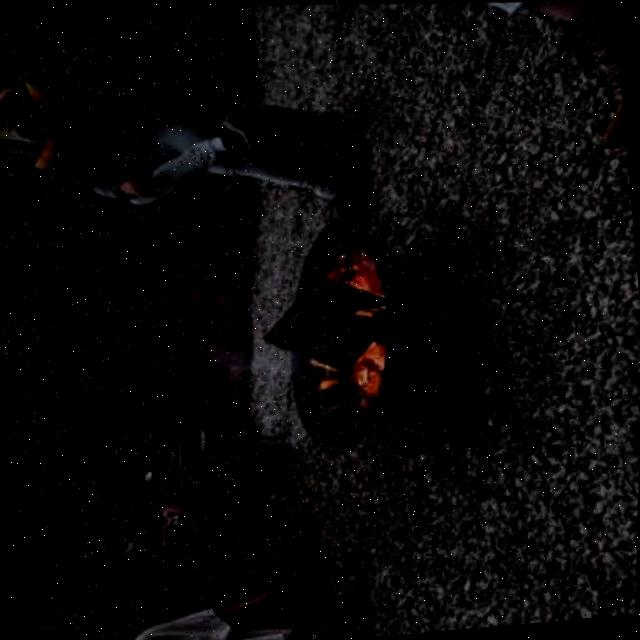fire: (310, 234, 406, 321), (285, 326, 397, 397)
